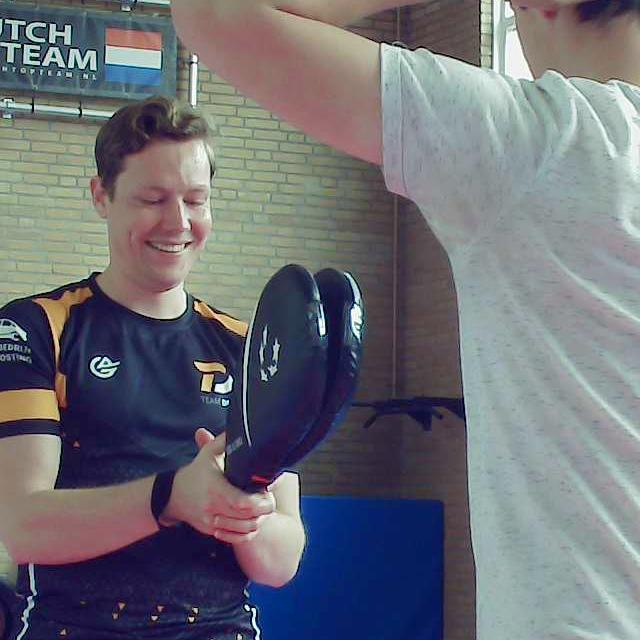paddle: (219, 265, 367, 493)
